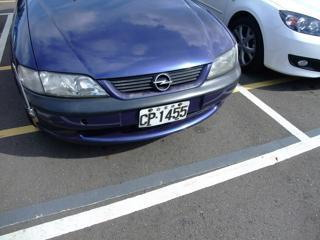plate: (137, 101, 187, 126)
